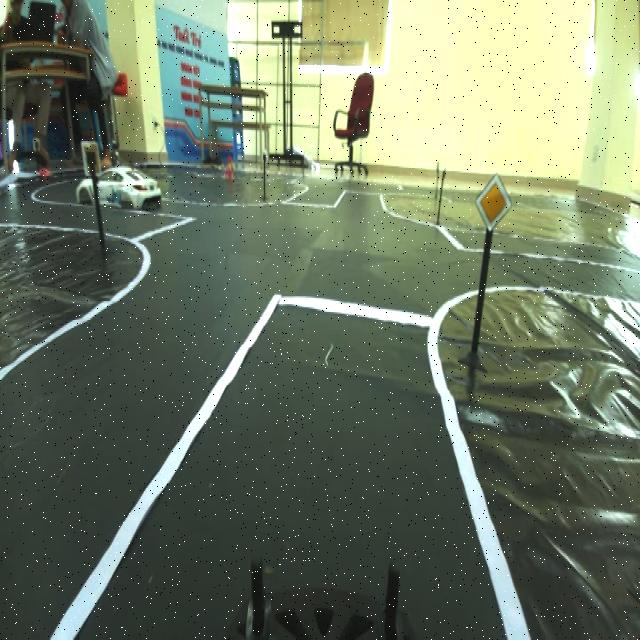priority: (474, 174, 514, 230)
